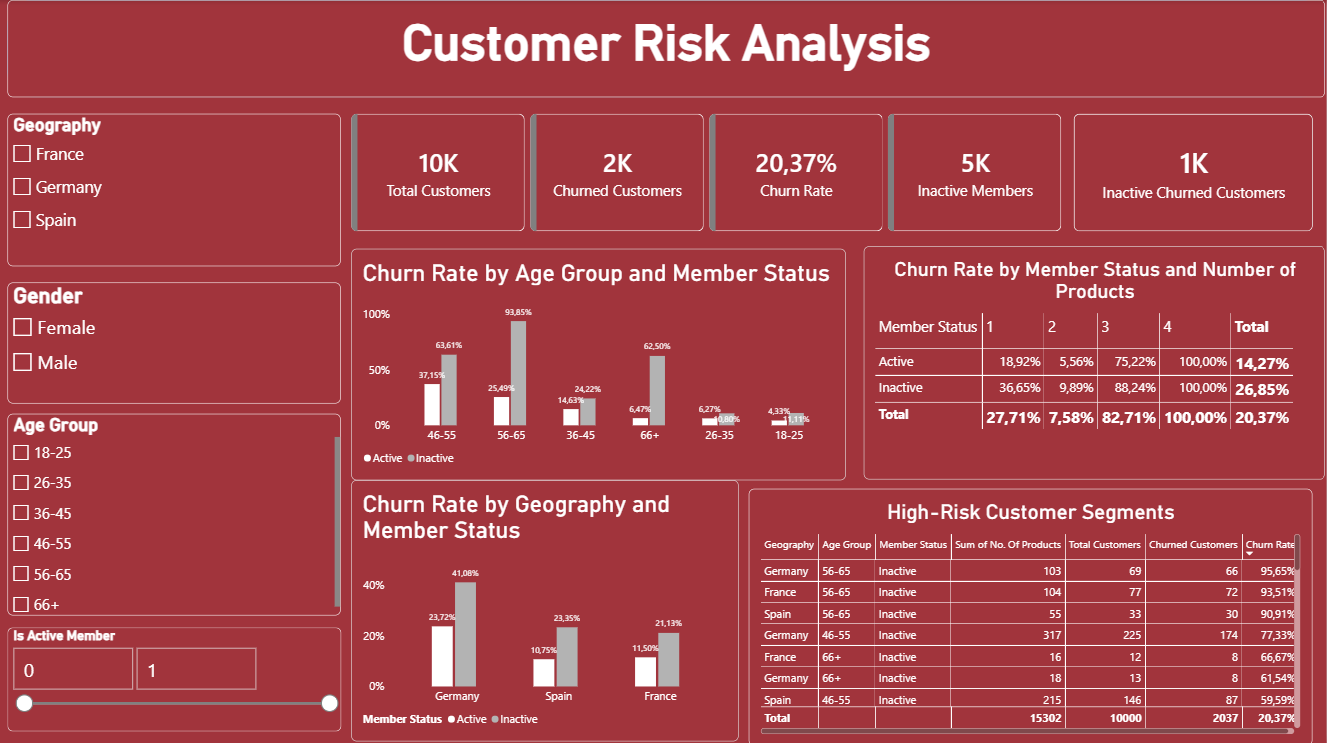

What the dashboard file says about the page in this screenshot:
{"tool":"powerbi","page":{"name":"Customer Risk Analysis","canvas":[1920,1080],"ordinal":5},"visuals":[{"type":"textbox","box":[10.8,0,1908.8,279.2],"z":0},{"type":"shape","box":[10.8,0,1908.8,140.7],"z":1000},{"type":"textbox","box":[10.8,0,1908.8,140.7],"z":2000},{"type":"cardVisual","fields":{"Data":["churn.Total Customers","churn.Churned Customers","churn.Churn Rate","churn.Inactive Members"]},"box":[508.6,164.5,1030.1,171],"z":3000},{"type":"clusteredColumnChart","fields":{"Category":["churn.Age Group"],"Series":["churn.Member Status"],"Y":["churn.Churn Rate"]},"box":[508.6,359.2,716.3,335.4],"z":4000},{"type":"pivotTable","title":"Churn Rate by Member Status and Number of Products","fields":{"Columns":["churn.No. Of Products"],"Rows":["churn.Member Status"],"Values":["churn.Churn Rate"]},"box":[1250.9,357.1,668.7,337.6],"z":5000},{"type":"slicer","fields":{"Values":["churn.Geography"]},"box":[10.8,164.5,482.6,220.7],"z":6000},{"type":"slicer","fields":{"Values":["churn.Gender"]},"box":[10.8,409,482.6,175.3],"z":7000},{"type":"slicer","fields":{"Values":["churn.Age Group"]},"box":[10.8,599.5,482.6,292.2],"z":8000},{"type":"slicer","fields":{"Values":["churn.Is Active Member"]},"box":[10.8,908.9,483,150],"z":9000},{"type":"clusteredColumnChart","fields":{"Category":["churn.Geography"],"Series":["churn.Member Status"],"Y":["churn.Churn Rate"]},"box":[508.6,694.7,560.5,378.7],"z":10000},{"type":"tableEx","title":"High-Risk Customer Segments","fields":{"Values":["churn.Geography","churn.Age Group","churn.Member Status","Sum(churn.No. Of Products)","churn.Total Customers","churn.Churned Customers","churn.Churn Rate"]},"box":[1084.2,707.7,815.9,372.2],"z":11000},{"type":"cardVisual","fields":{"Data":["churn.Inactive Churned Customers"]},"box":[1553.9,164.5,346.3,171],"z":12000}]}

Visuals, with their boxes in screenshot pixels (x1, y1, x2, y2), scaled from the page's 1920x1080 canvas onto the 1327x743 screenshot:
textbox: region(7, 0, 1326, 192)
shape: region(7, 0, 1326, 97)
textbox: region(7, 0, 1326, 97)
cardVisual - churn.Total Customers x churn.Churned Customers: region(352, 113, 1063, 231)
clusteredColumnChart - churn.Age Group x churn.Member Status: region(352, 247, 847, 478)
"Churn Rate by Member Status and Number of Products" pivotTable: region(865, 246, 1326, 478)
slicer - churn.Geography: region(7, 113, 341, 265)
slicer - churn.Gender: region(7, 281, 341, 402)
slicer - churn.Age Group: region(7, 412, 341, 613)
slicer - churn.Is Active Member: region(7, 625, 341, 728)
clusteredColumnChart - churn.Geography x churn.Member Status: region(352, 478, 739, 738)
"High-Risk Customer Segments" tableEx: region(749, 487, 1313, 742)
cardVisual - churn.Inactive Churned Customers: region(1074, 113, 1313, 231)
